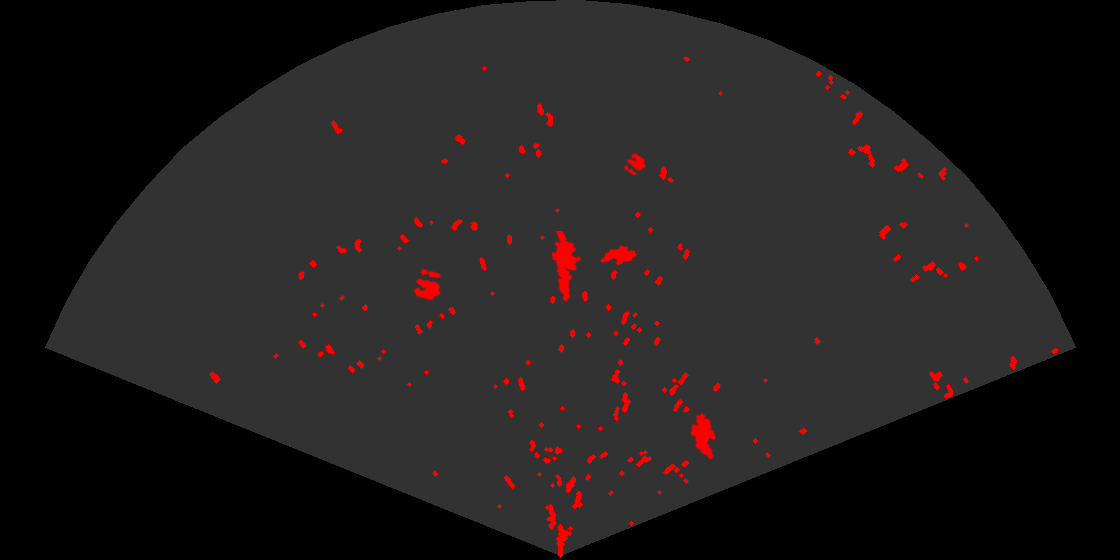AUV: (688, 411, 718, 461), (599, 244, 639, 267)
ball: (412, 267, 443, 302), (622, 151, 647, 177)
frogman: (550, 231, 583, 304)
